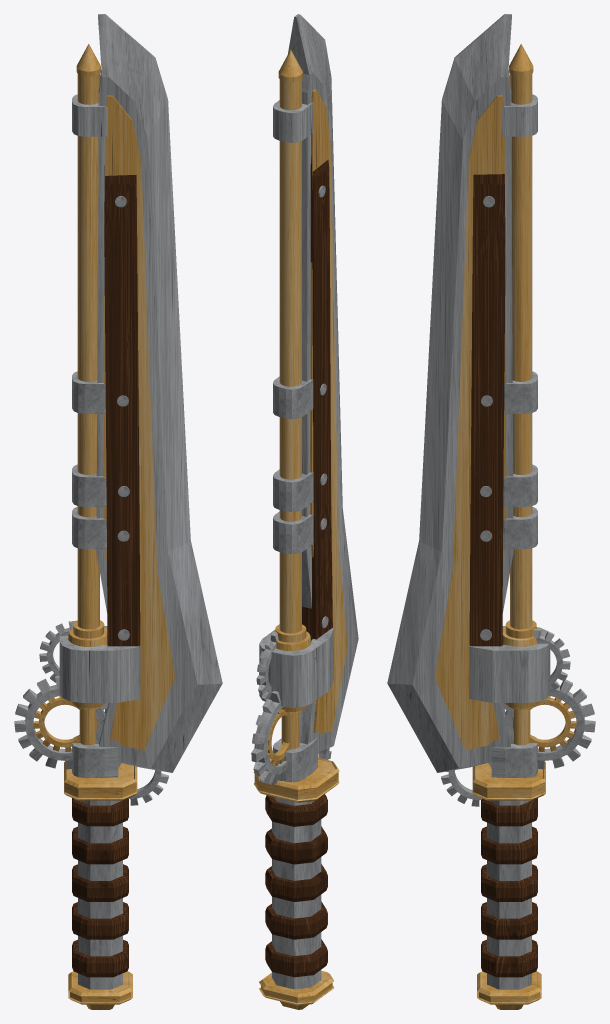
Rendered from NewGreatSword.fbx.
3 views of the same model, side by side, from view 1: azimuth 90°, elevation 25°; view 2: azimuth 150°, elevation 25°; view 3: azimuth 270°, elevation 25° (orthographic).
Visible parts, largest first — view 1: Cube.004; view 2: Cube.004; view 3: Cube.004.
Part boxes in pixels (left/top/right/bottom): Cube.004: left=14, top=14, right=222, bottom=1009; Cube.004: left=251, top=14, right=358, bottom=1009; Cube.004: left=387, top=14, right=595, bottom=1009.
Size of the model in its own units: 84.5 by 1257 by 239.
3 materials, 3 textured.
